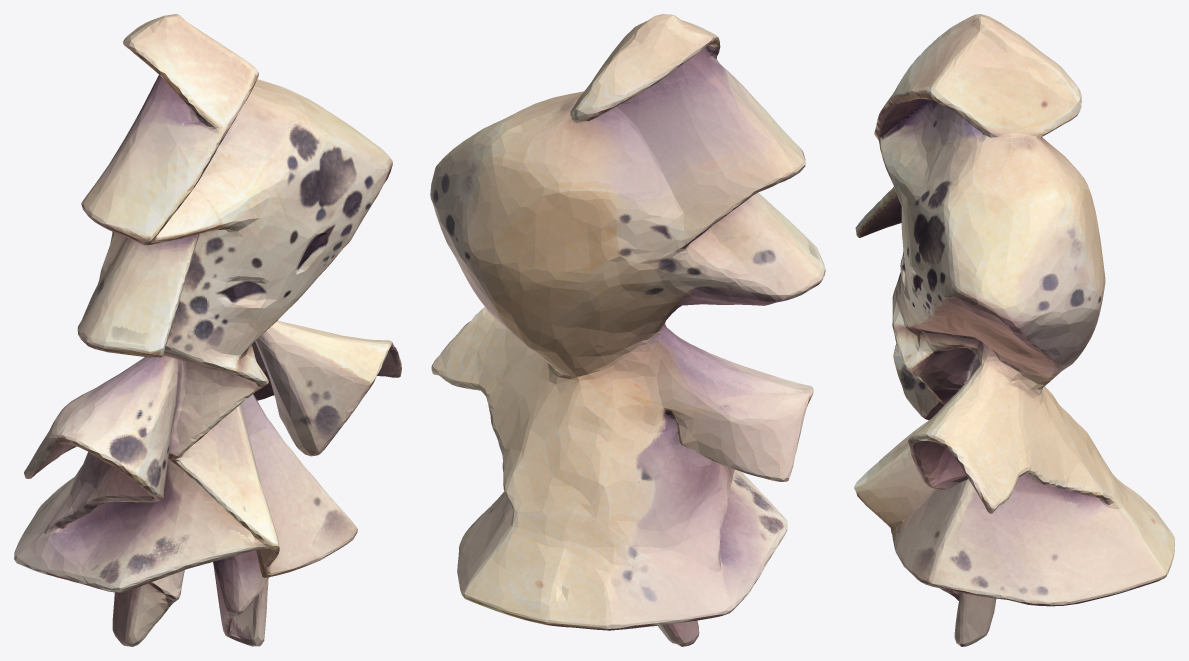
File: paper_spirit.glb
3 renders of one model, left to right at view 1: azimuth 30°, elevation 25°; view 2: azimuth 150°, elevation 25°; view 3: azimuth 270°, elevation 25°, orthographic. The views are drawn at different scales.
Parts seen in each view (by area): view 1: temp_mesh.ply; view 2: temp_mesh.ply; view 3: temp_mesh.ply.
Boxes of the visible parts, x1,y1,x2,y2 form: temp_mesh.ply: (14,14,401,646); temp_mesh.ply: (430,14,825,646); temp_mesh.ply: (854,14,1174,646).
Bounding box in the file's own units: 1.19 × 1.96 × 0.9629.
1 material, 1 textured.
